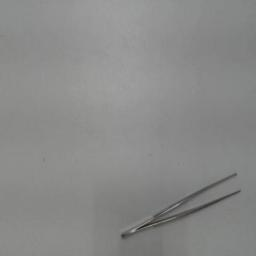Gillies Toothed Dissector: (116, 166, 246, 248)
